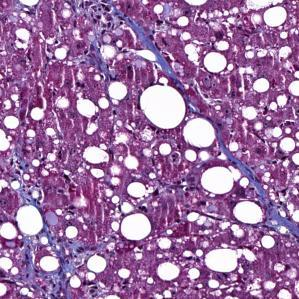fibrosis: (90, 0, 163, 81), (19, 234, 97, 296)
